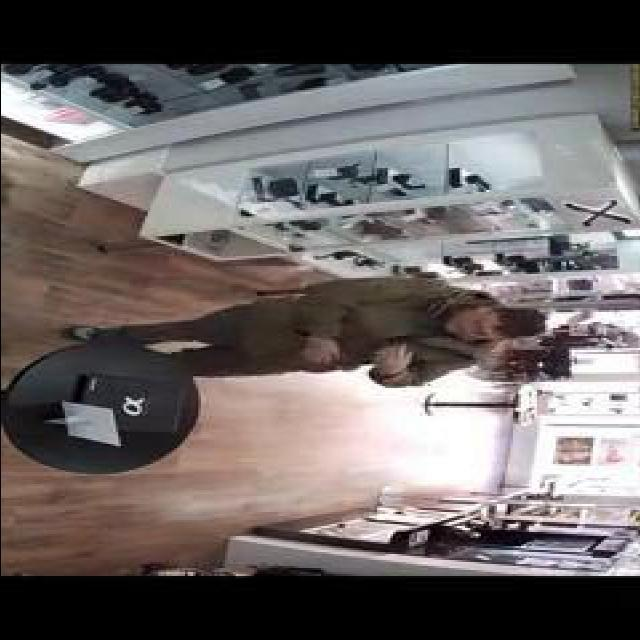Shoplifting: (197, 246, 567, 441)
